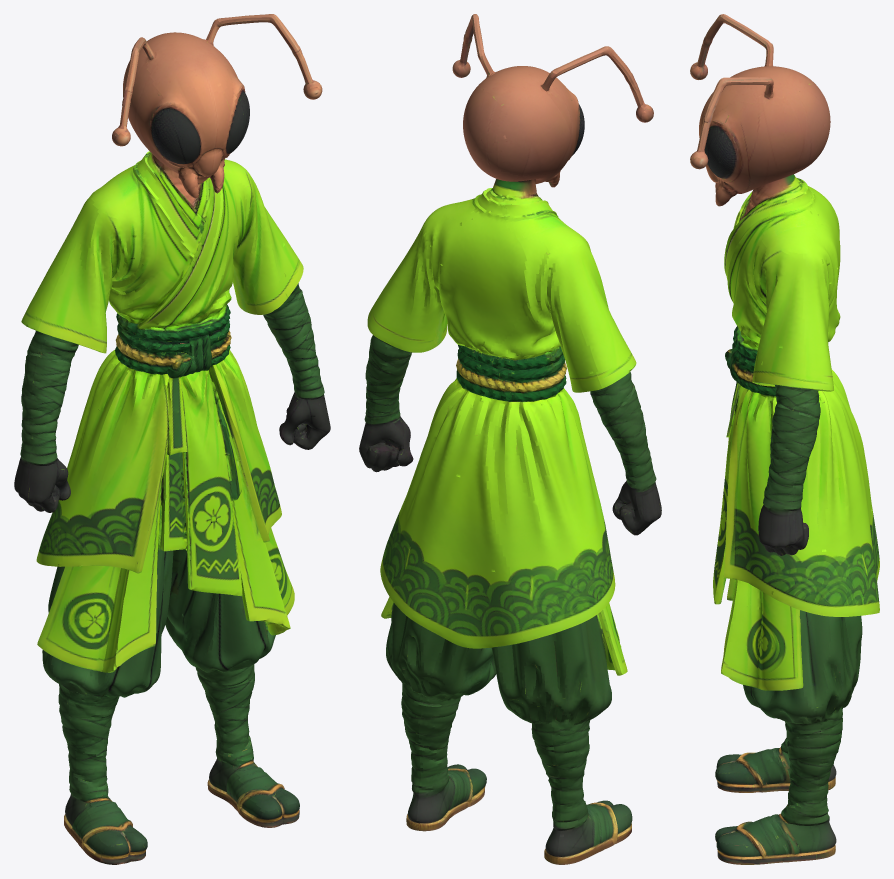
File: rebel_4998_part_body_meshy_v1.glb
3 renders of one model, left to right at view 1: azimuth 30°, elevation 25°; view 2: azimuth 150°, elevation 25°; view 3: azimuth 270°, elevation 25°, orthographic. The views are drawn at different scales.
Parts seen in each view (by area): view 1: Mesh_0; view 2: Mesh_0; view 3: Mesh_0.
Part boxes in pixels (x1,y1,x2,y2): Mesh_0: (14,14,330,864); Mesh_0: (359,14,661,864); Mesh_0: (690,14,879,864).
Bounding box in the file's own units: 0.7499 × 1.9 × 0.4235.
1 material, 1 textured.
